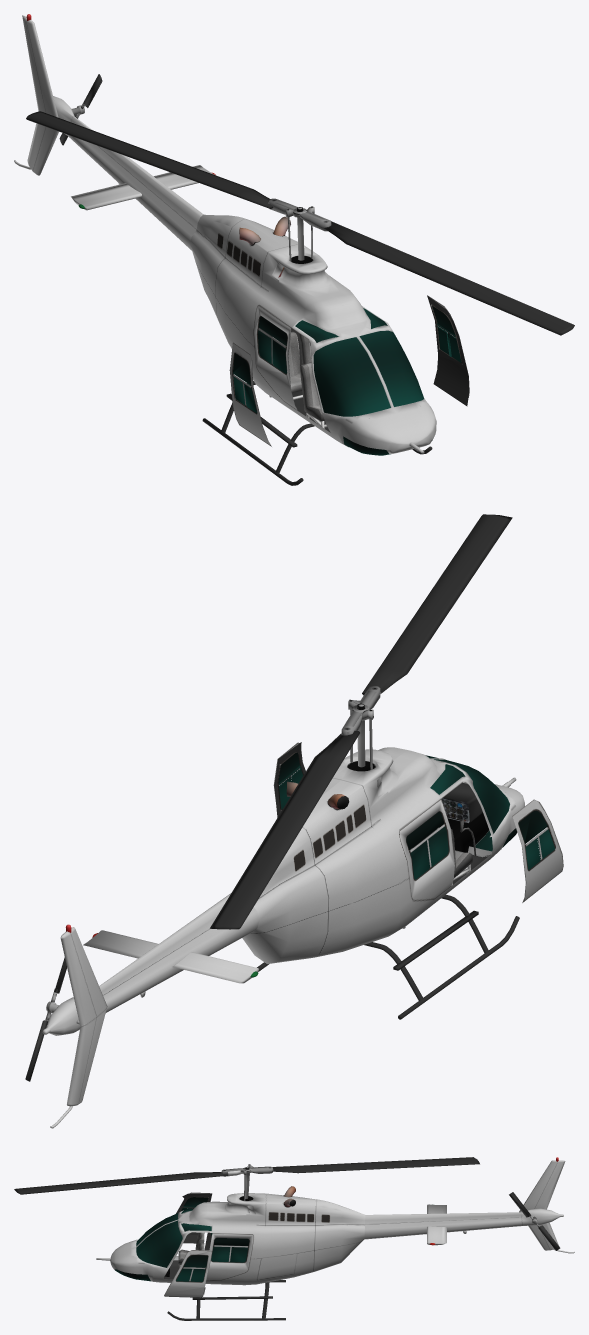
File: Helicopter (1).fbx
3 renders of one model, top to bottom at view 1: azimuth 30°, elevation 25°; view 2: azimuth 150°, elevation 25°; view 3: azimuth 270°, elevation 25°, orthographic. The views are drawn at different scales.
Visible parts, largest first — view 1: Helicopter__1_; view 2: Helicopter__1_; view 3: Helicopter__1_.
Part boxes in pixels (x1,y1,x2,y2): Helicopter__1_: (14, 14, 574, 485); Helicopter__1_: (25, 514, 563, 1128); Helicopter__1_: (14, 1157, 574, 1320).
Bounding box in the file's own units: 306 × 328 × 1193.
